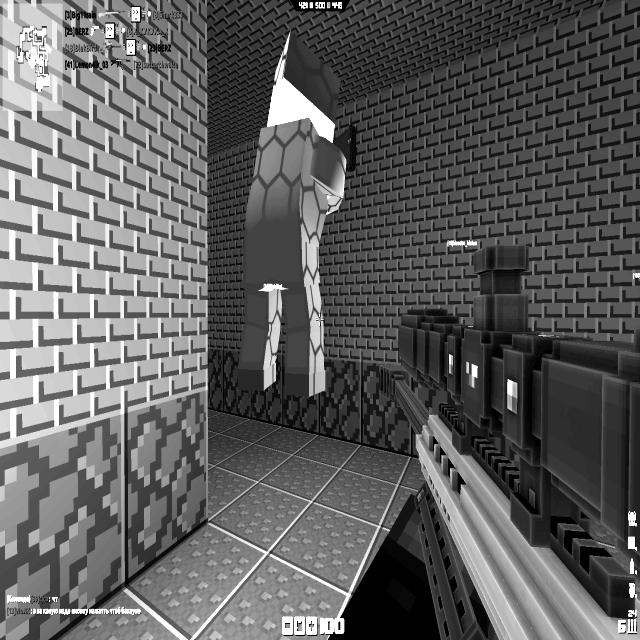Head: (266, 30, 341, 142)
Player: (236, 29, 354, 398)
